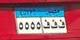5: (19, 21, 24, 31), (36, 21, 41, 30), (30, 22, 35, 30), (25, 22, 30, 30)
faa: (58, 19, 65, 29), (51, 19, 57, 29), (44, 19, 50, 29)
